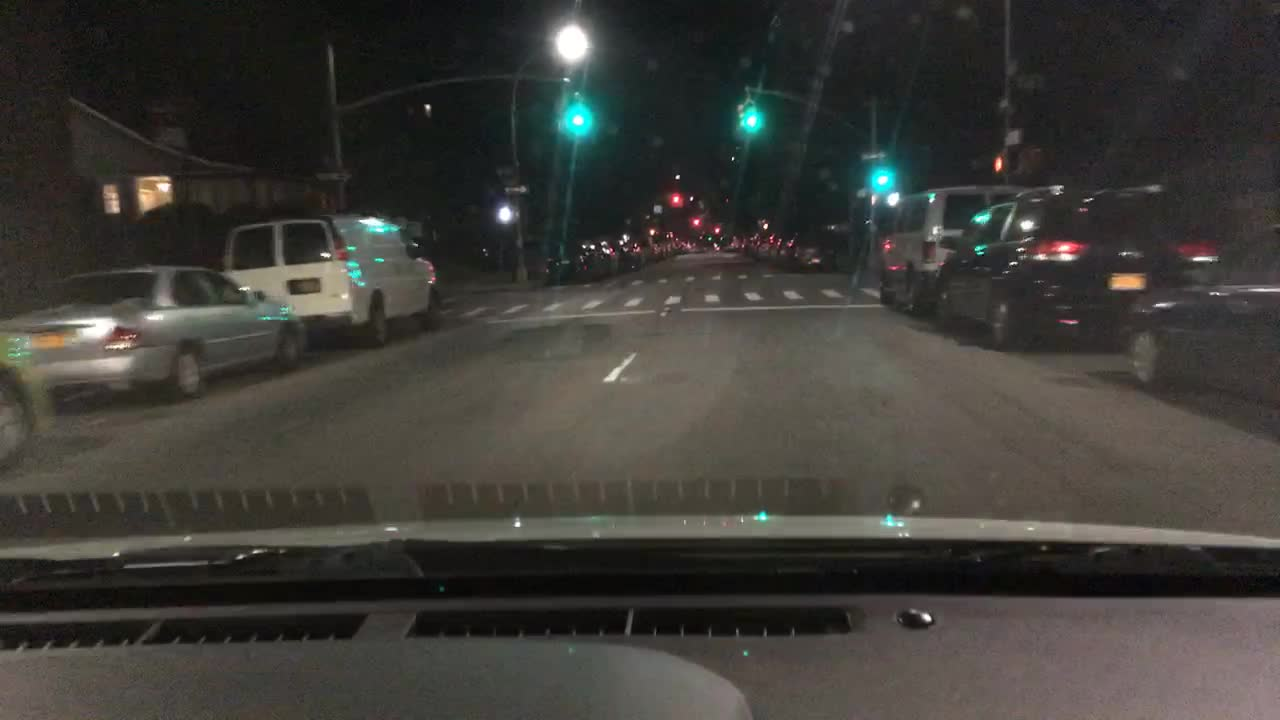car: (0, 257, 315, 403), (1126, 184, 1278, 423), (986, 183, 1175, 356), (222, 210, 448, 352), (878, 183, 984, 316), (933, 196, 1034, 329), (0, 347, 51, 470), (791, 232, 832, 272), (616, 231, 648, 272), (756, 233, 777, 258), (647, 232, 667, 258), (777, 237, 791, 260), (662, 239, 681, 254), (742, 232, 756, 251), (710, 237, 727, 250), (728, 235, 742, 250), (693, 242, 710, 252), (677, 239, 692, 250)
person: (572, 238, 620, 283), (543, 254, 558, 285)
traffic light: (865, 165, 891, 191), (565, 104, 582, 132), (993, 154, 1010, 174), (495, 202, 512, 221), (746, 100, 756, 130), (735, 100, 744, 131), (670, 193, 684, 207), (689, 216, 702, 226), (713, 223, 722, 234)
traffic sign: (315, 167, 353, 182), (1003, 130, 1024, 145), (503, 185, 529, 194), (861, 153, 889, 161), (854, 188, 868, 199), (652, 203, 662, 214)
